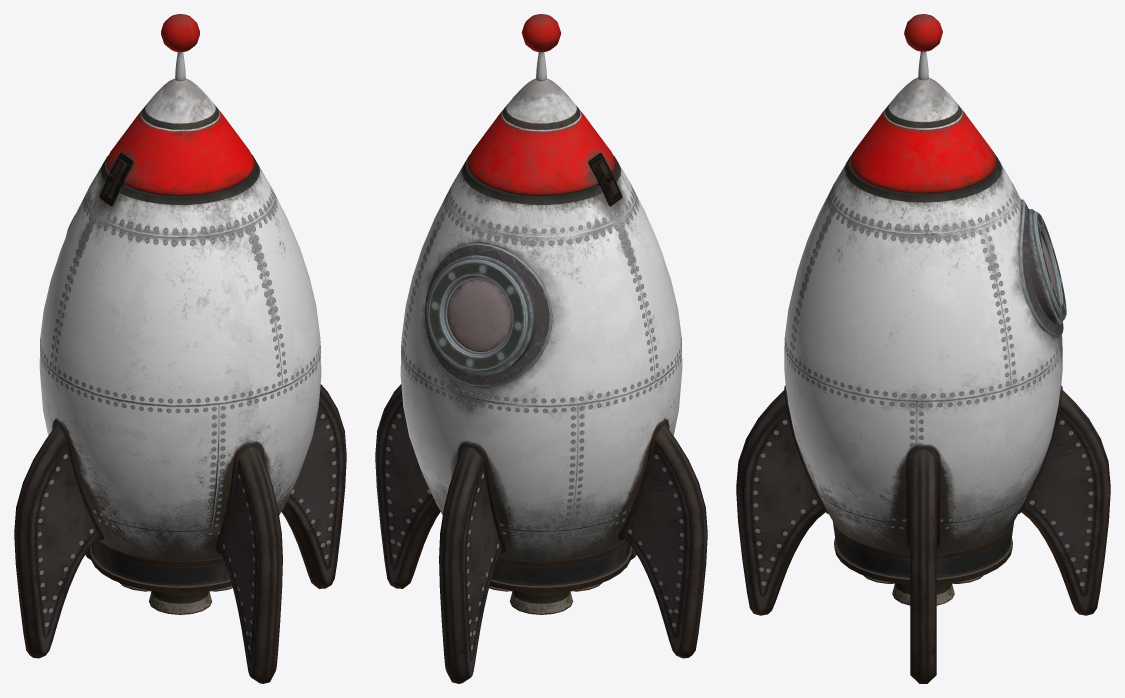
File: soma04-interior.glb
3 renders of one model, left to right at view 1: azimuth 30°, elevation 25°; view 2: azimuth 150°, elevation 25°; view 3: azimuth 270°, elevation 25°, orthographic.
Parts seen in each view (by area): view 1: Object_2; view 2: Object_2; view 3: Object_2.
Boxes of the visible parts, <box> form: Object_2: <box>14,14,346,683</box>; Object_2: <box>375,14,707,683</box>; Object_2: <box>736,14,1110,683</box>.
Size of the model in its own units: 622 by 1097 by 622.
4 materials, 4 textured.
